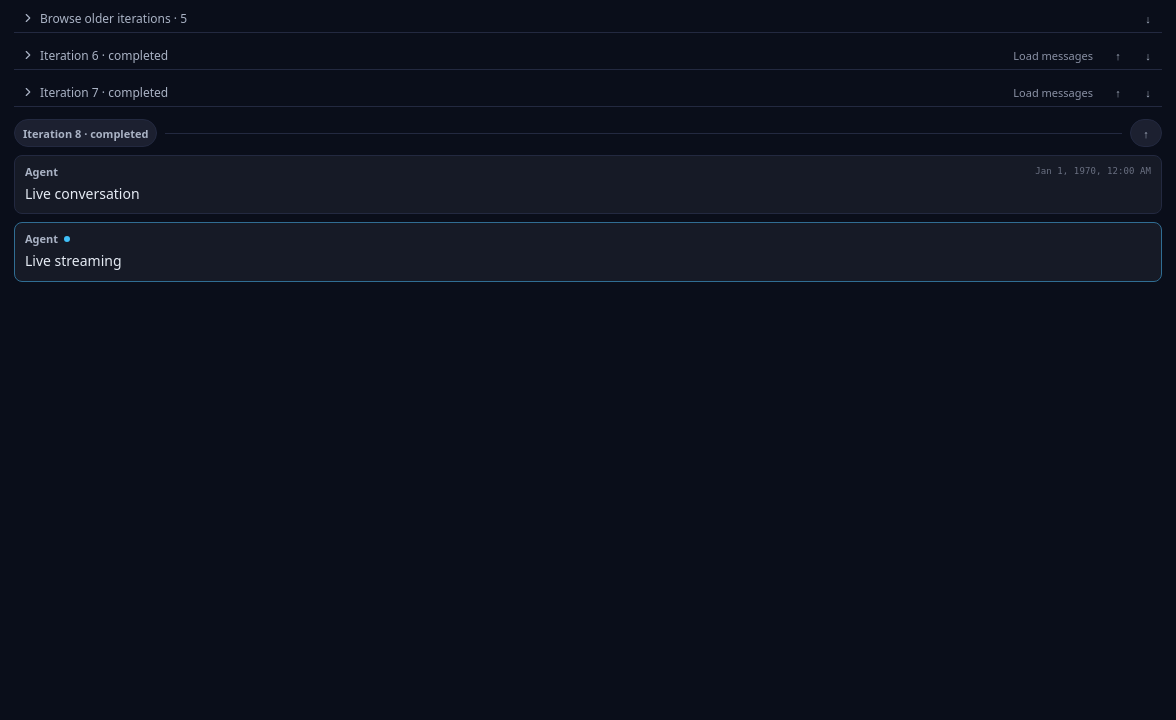
progressive work-item transcript › offers skimmable older summaries and retrieves only the selected iteration
The width and height of the screenshot is (1176, 720).
Expected: the text "Summary 5" is not shown
Click the button "Browse older iterations · 5".
click(61, 18)  # box left=14, top=4, right=1130, bottom=32
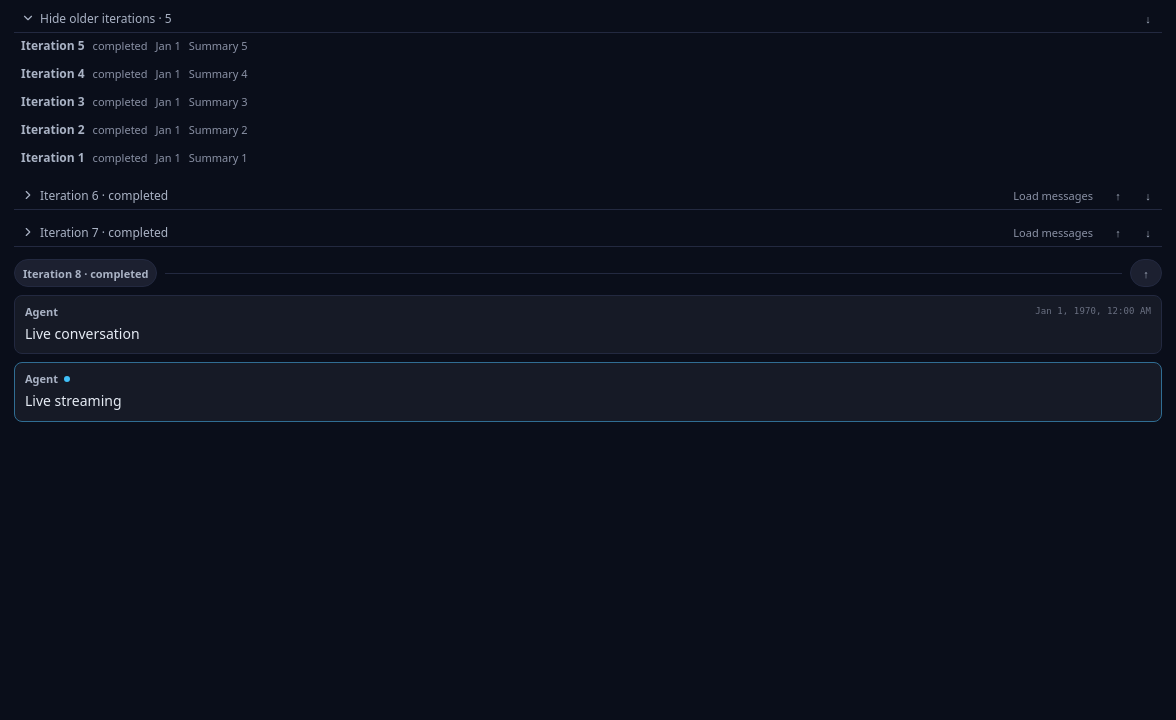
Expected: the text "Summary 5" is shown, left=189, top=38, right=248, bottom=53
Click the button with aria-label "Iteration 5 · completed".
click(49, 46)  # box left=14, top=33, right=1162, bottom=61
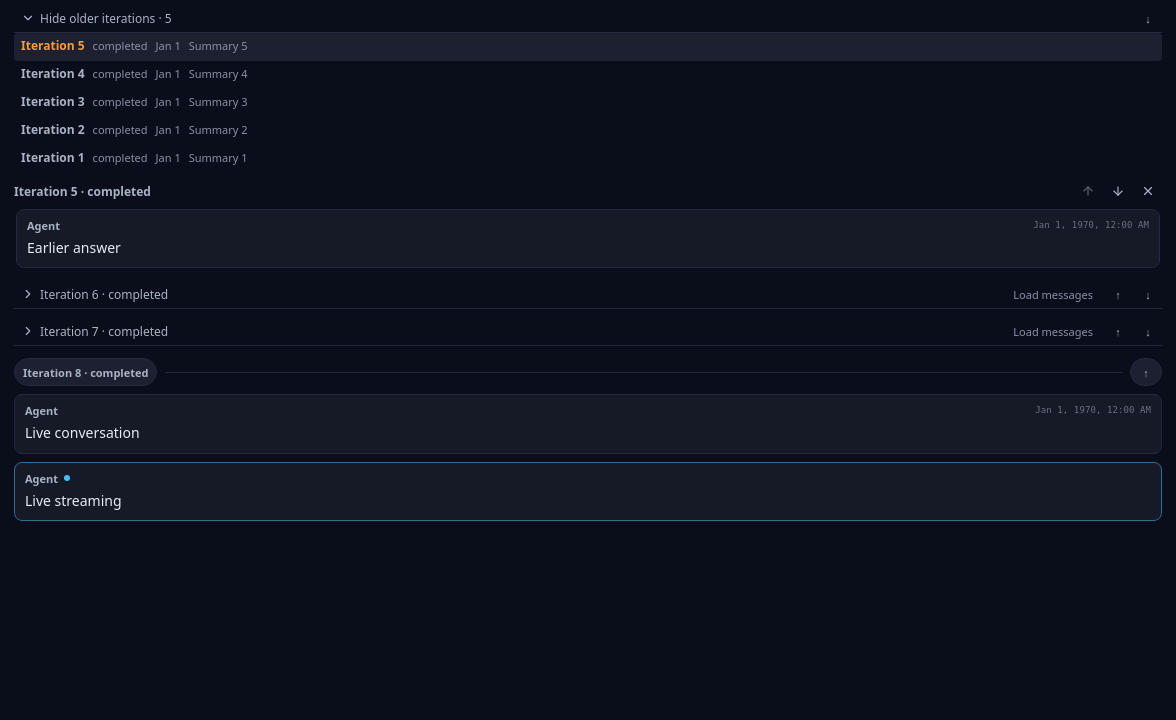
Expected: the text "Earlier answer" is shown, left=27, top=238, right=121, bottom=257
Click the button named "Older iteration".
click(1118, 191)  # box left=1104, top=177, right=1132, bottom=205
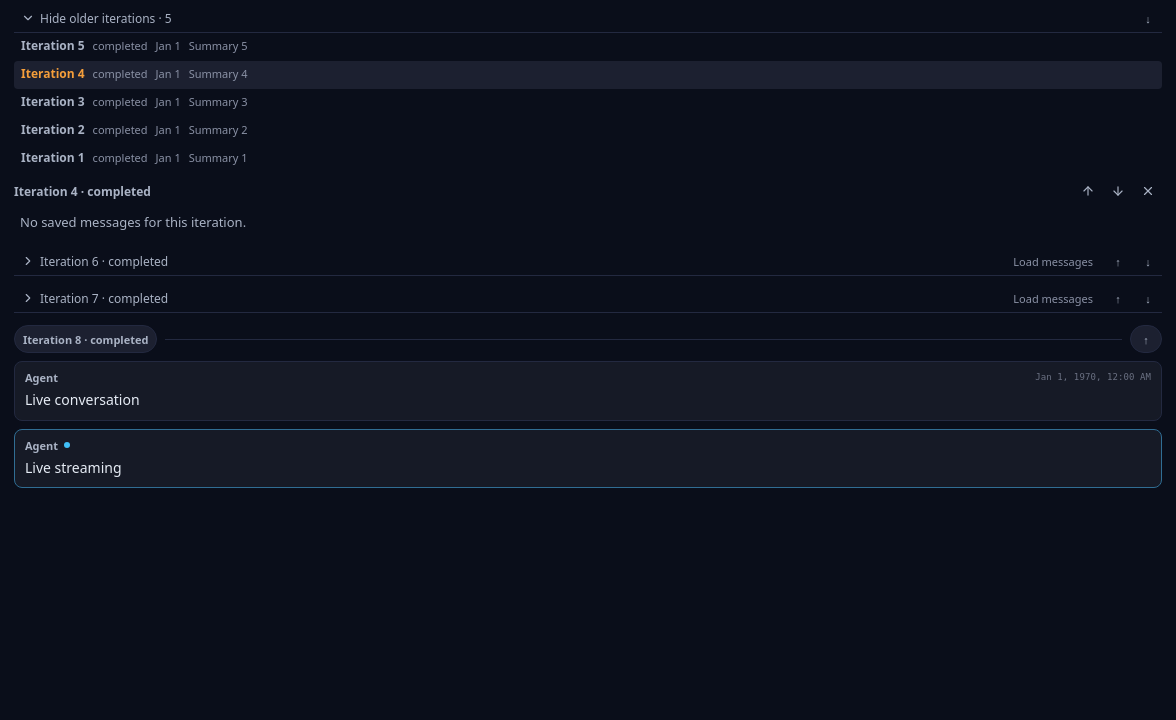
Expected: the text "Earlier answer" is gone
Expected: the text "No saved messages for this iteration." is shown, left=20, top=213, right=246, bottom=231
Click the button "Hide older iterations · 5".
click(115, 18)  # box left=14, top=4, right=1130, bottom=32
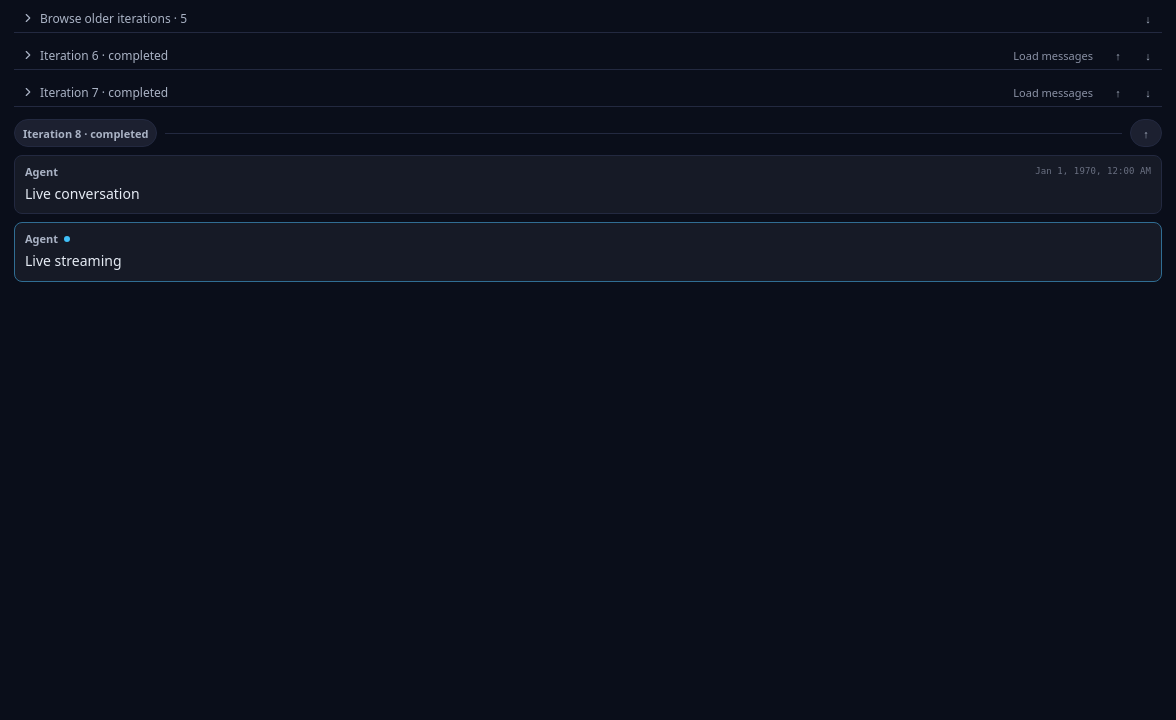
Expected: the text "Live conversation" is shown, left=25, top=184, right=140, bottom=203
Expected: the text "No saved messages for this iteration." is gone
